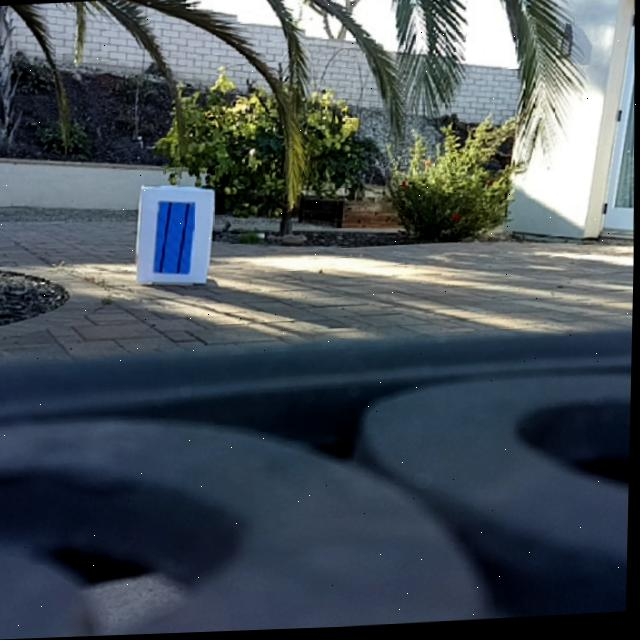led: (151, 200, 195, 278)
